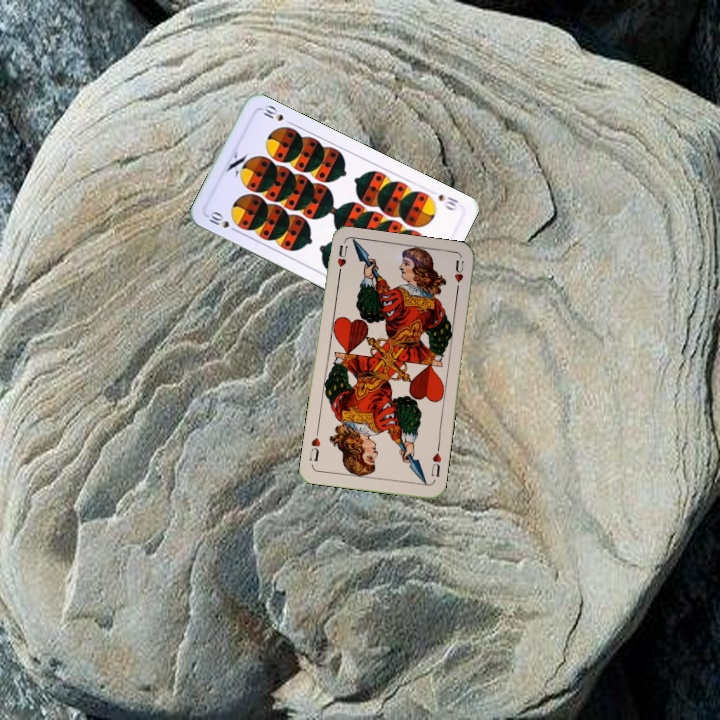HU: (333, 241, 350, 281), (427, 449, 444, 479)
S10: (203, 207, 241, 235), (434, 190, 461, 213)
